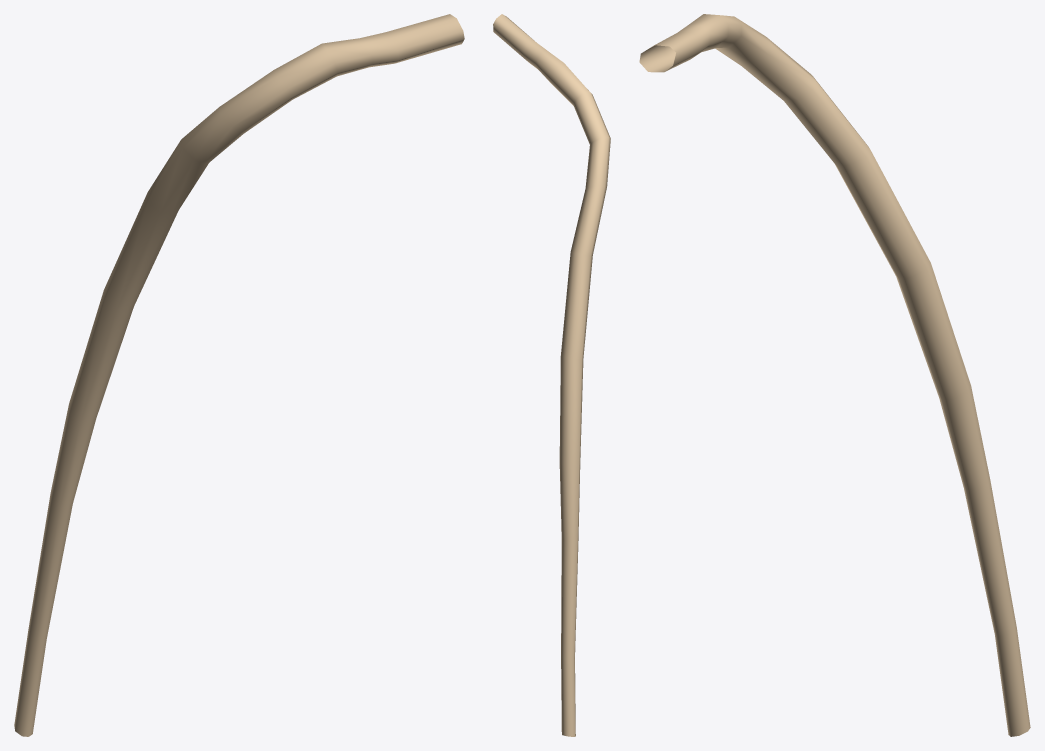
The model's file is L_B_Accessory_Nerve01.fbx.
The picture shows the model from 3 angles, left to right: view 1: azimuth 30°, elevation 25°; view 2: azimuth 150°, elevation 25°; view 3: azimuth 270°, elevation 25°; orthographic projection. The views are drawn at different scales.
Parts seen in each view (by area): view 1: L_B_Accessory_Nerve; view 2: L_B_Accessory_Nerve; view 3: L_B_Accessory_Nerve.
Part boxes in pixels (box(x1,y1,x2,y2)): L_B_Accessory_Nerve: box(14, 14, 464, 736); L_B_Accessory_Nerve: box(493, 14, 610, 736); L_B_Accessory_Nerve: box(639, 14, 1030, 736).
Bounding box in the file's own units: 0.7757 × 2.12 × 0.9097.
